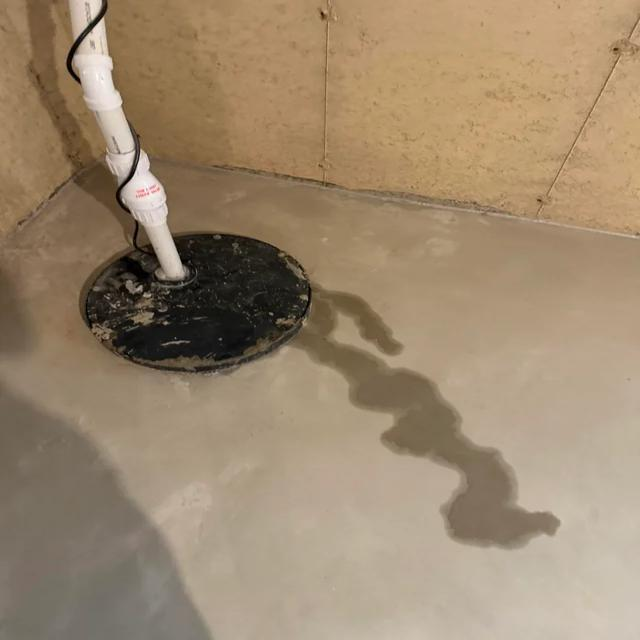water accumulation: (261, 280, 557, 547)
